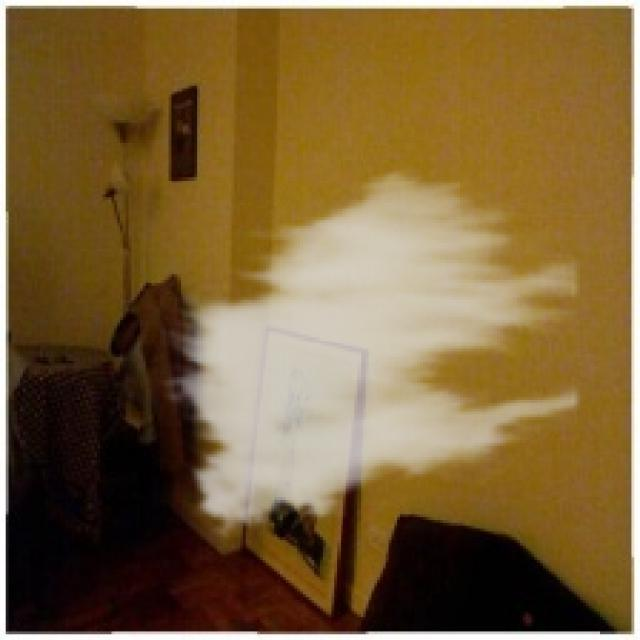Smoke: (160, 160, 580, 546)
